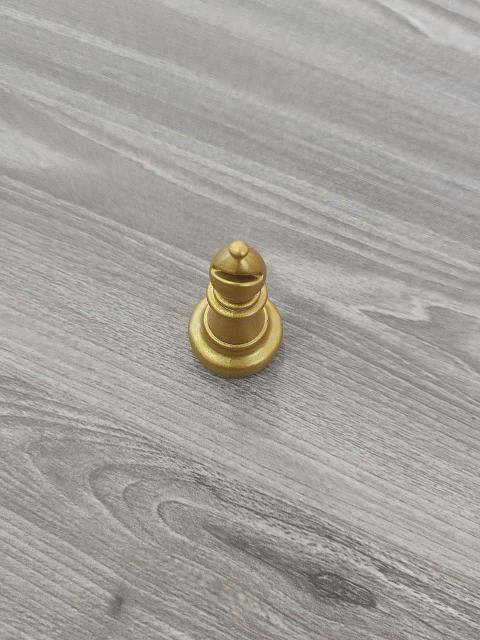black_bishop: (183, 237, 288, 382)
